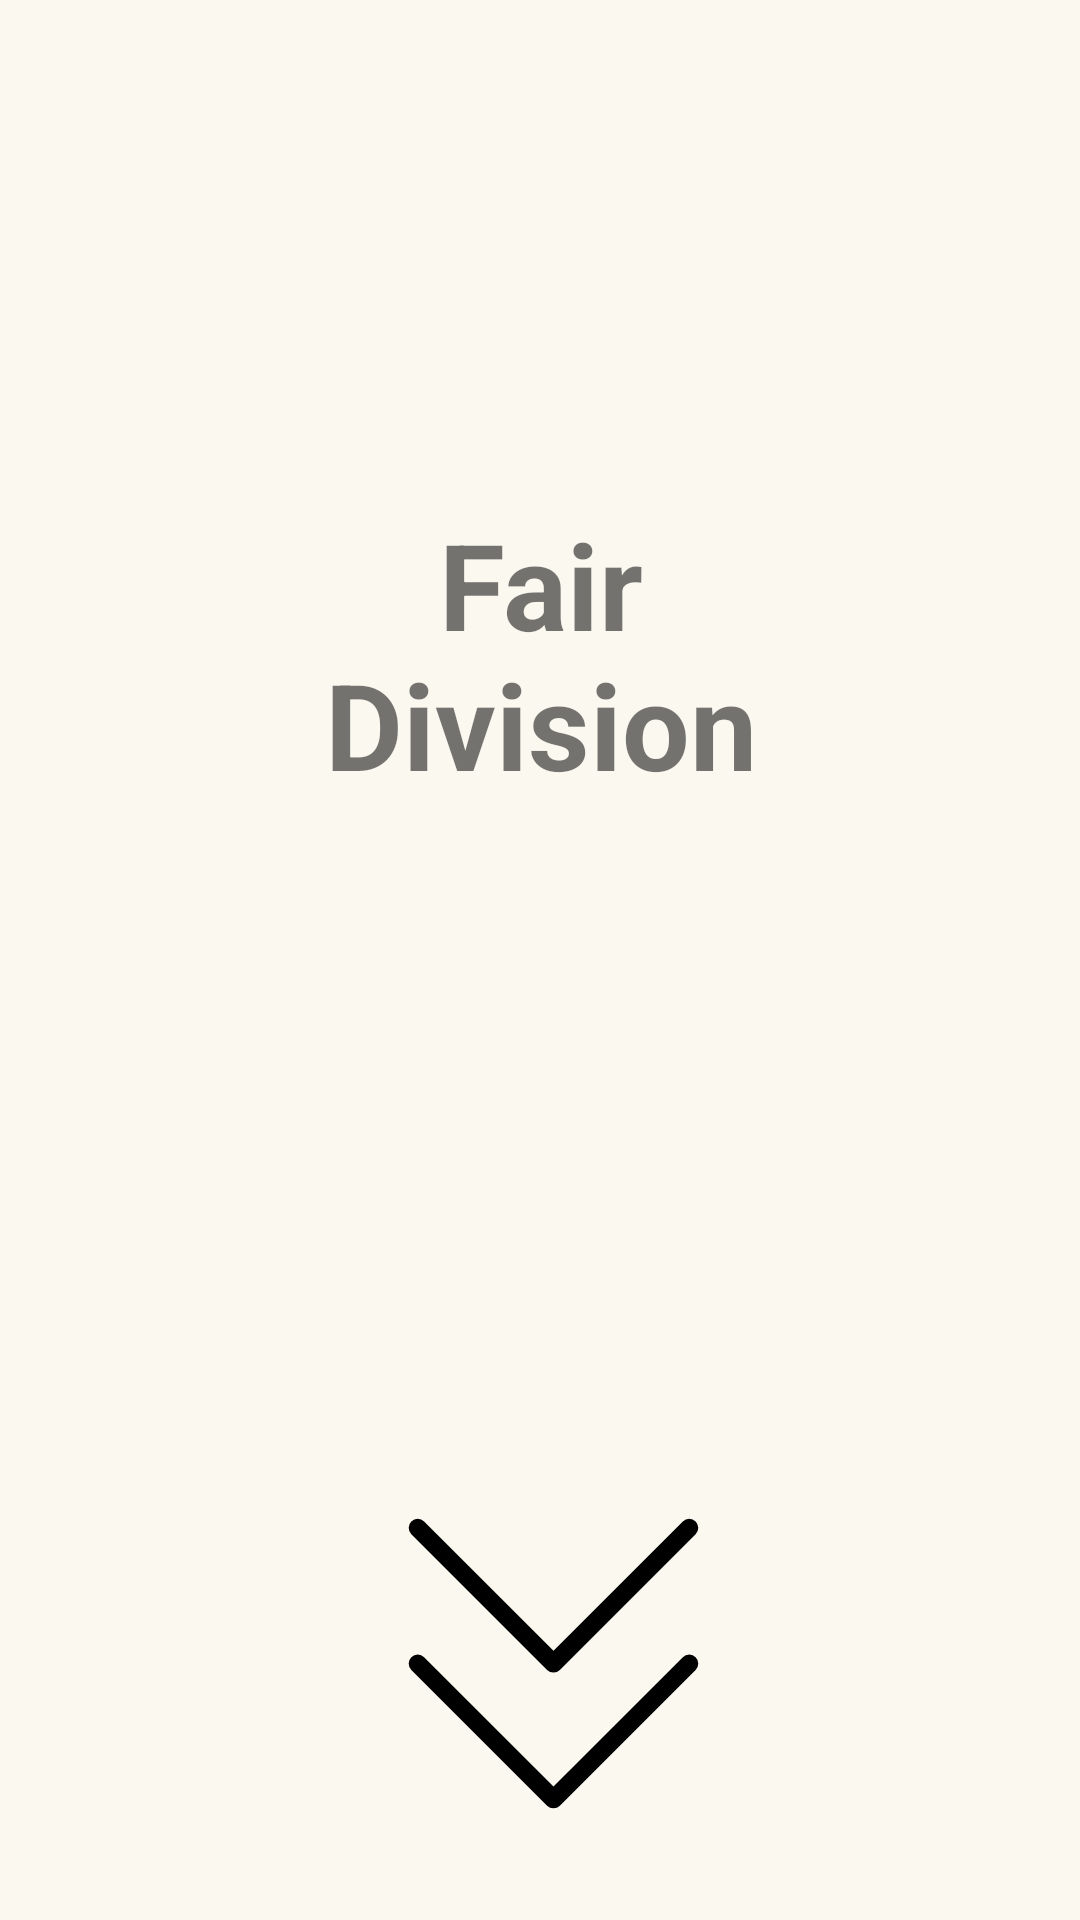

Where icons sit on this 1080×1920 app screen, as (x1, y1, x2, y2):
double arrow down: (408, 1518, 699, 1809)
